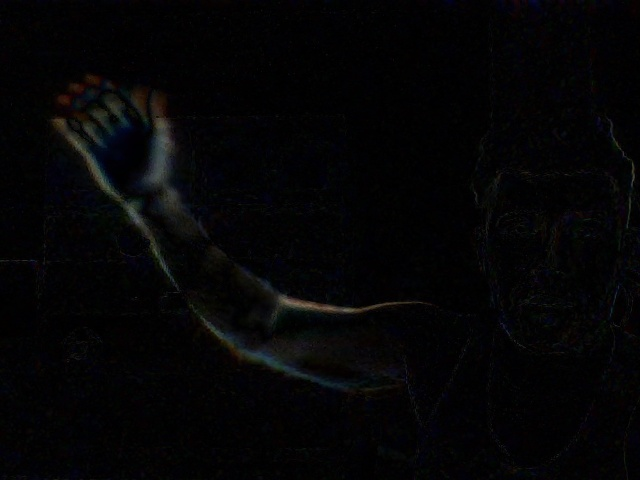arm_fo: (56, 43, 267, 337)
